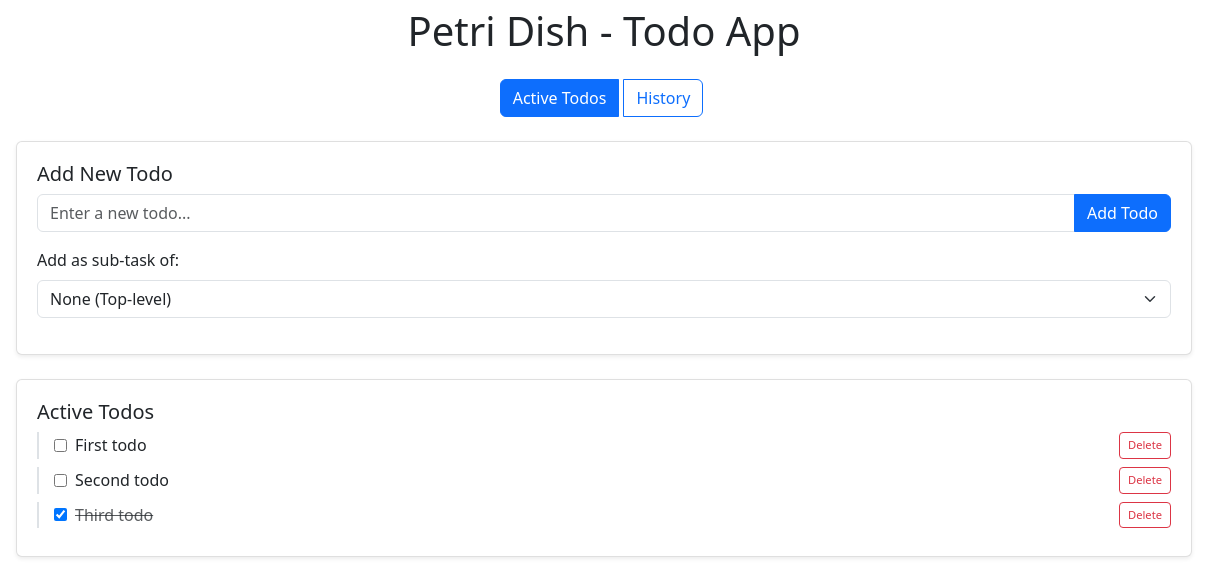
Test: App Component › Navigation and Views › switches to history view
expect the checkbox next to "First todo" is shown: met, box x1=54 y1=439 x2=67 y2=452
What coordinates should you click on to do the following:
click the button "History"
I would click on:
 (663, 98)
Its box is x1=623 y1=79 x2=703 y2=117.
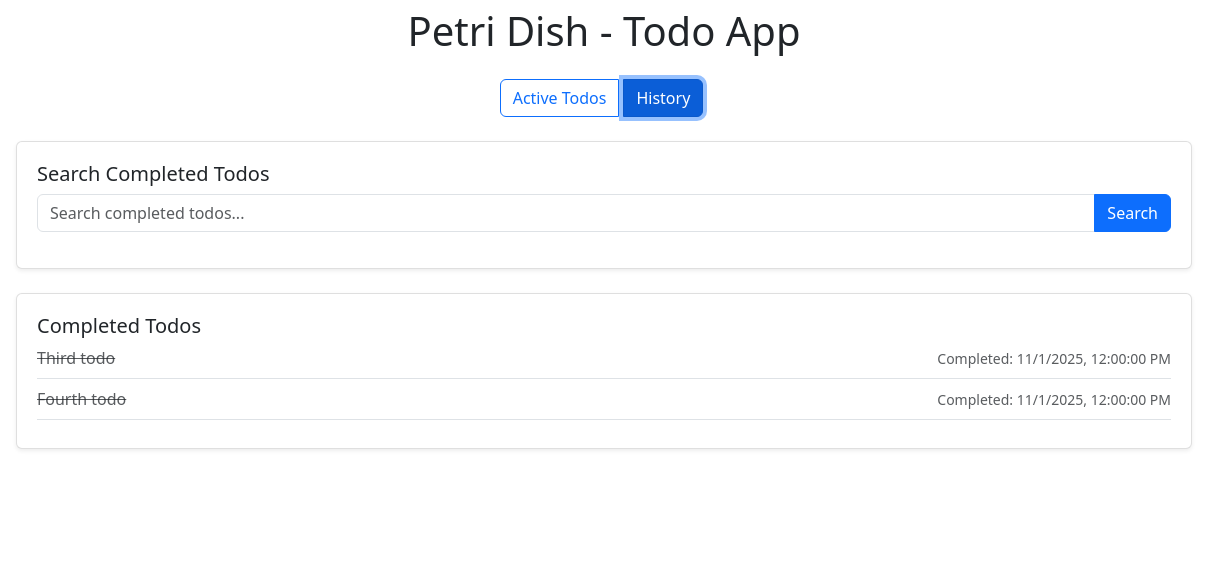
expect the heading "Search Completed Todos" is shown: met, box x1=37 y1=160 x2=270 y2=187
expect the heading "Add New Todo" is gone: met
